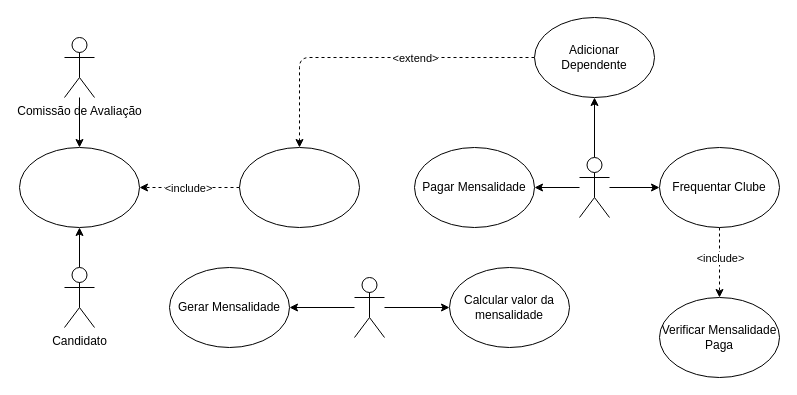
Some shapes in this 797 by 395 pixel diagram are drawn without their labels. The centre of each missing label's shape, as x and y in pixels:
"Associar-se no Clube" belongs at [299,187].
"Sistema do Clube" belongs at [369,307].
"Solicitar Registro" belongs at [79,187].
"Sócio" belongs at [594,187].
